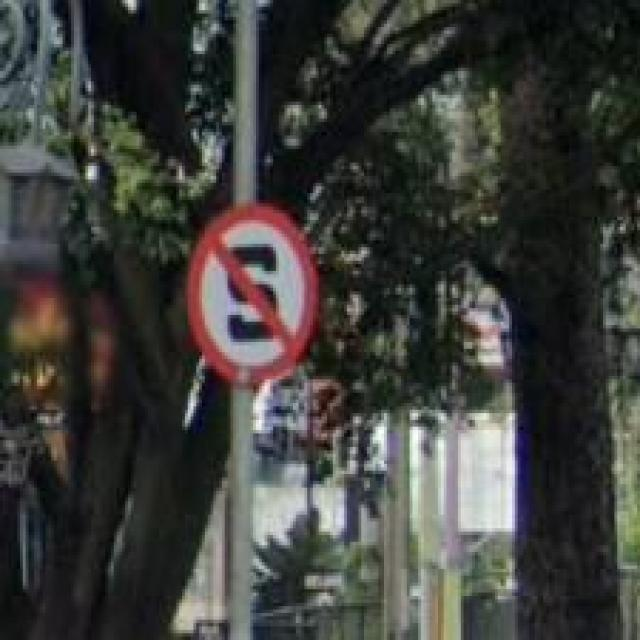traffic sign: (185, 207, 316, 383)
